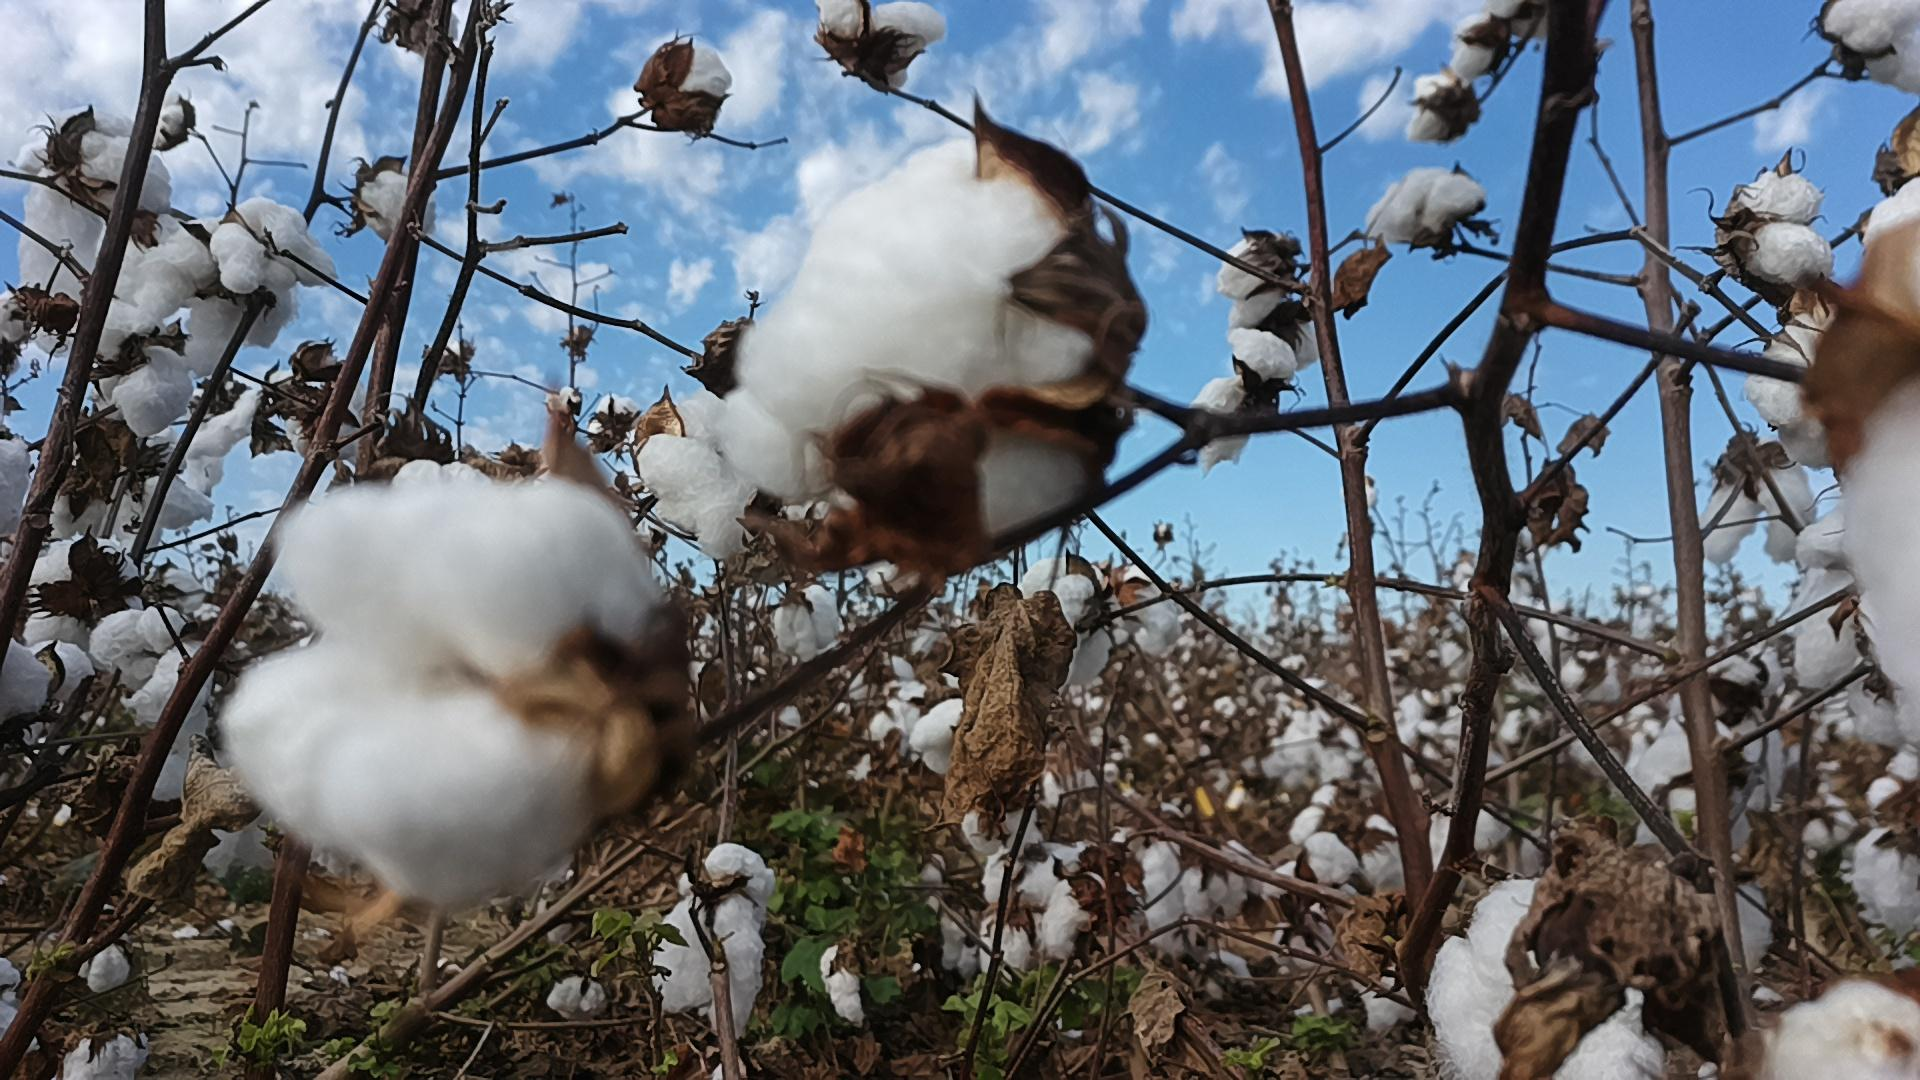cotton_ready: (216, 479, 655, 910), (721, 136, 1116, 541), (1428, 878, 1673, 1080), (1841, 175, 1920, 738), (12, 111, 167, 359), (135, 198, 338, 375), (638, 389, 843, 563), (654, 843, 781, 1036), (1743, 976, 1920, 1080), (128, 603, 218, 804), (1749, 313, 1863, 468), (1191, 331, 1302, 480), (1788, 509, 1878, 688), (1701, 446, 1820, 566), (1217, 243, 1328, 365), (1640, 720, 1788, 807), (25, 538, 148, 640), (976, 847, 1068, 981), (1855, 745, 1920, 936), (1018, 564, 1118, 686), (818, 0, 945, 95), (62, 940, 148, 1080), (1146, 837, 1246, 955), (1291, 781, 1403, 882), (1743, 175, 1838, 293), (1364, 169, 1487, 251), (1822, 0, 1920, 95), (1038, 873, 1142, 960), (1692, 870, 1778, 976), (100, 353, 195, 446), (112, 467, 223, 541), (183, 384, 264, 485), (0, 640, 91, 728), (295, 369, 382, 460), (650, 41, 732, 128), (357, 166, 438, 253), (88, 605, 160, 687), (1120, 578, 1185, 661), (44, 471, 117, 543), (1403, 75, 1472, 145), (915, 695, 973, 775), (0, 439, 36, 535), (1453, 9, 1507, 70)
